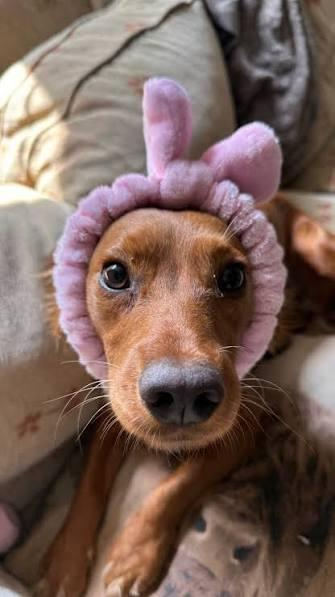adult_dog: (27, 199, 335, 596)
